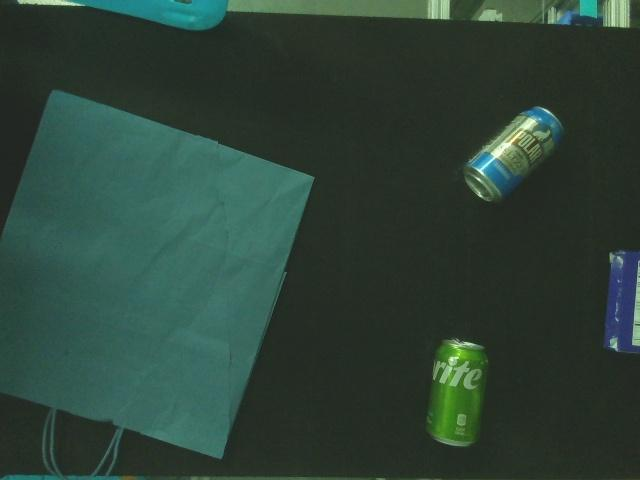cardboard: (599, 246, 640, 362)
metal: (458, 104, 569, 207), (424, 334, 494, 451)
paper: (0, 86, 317, 480)
